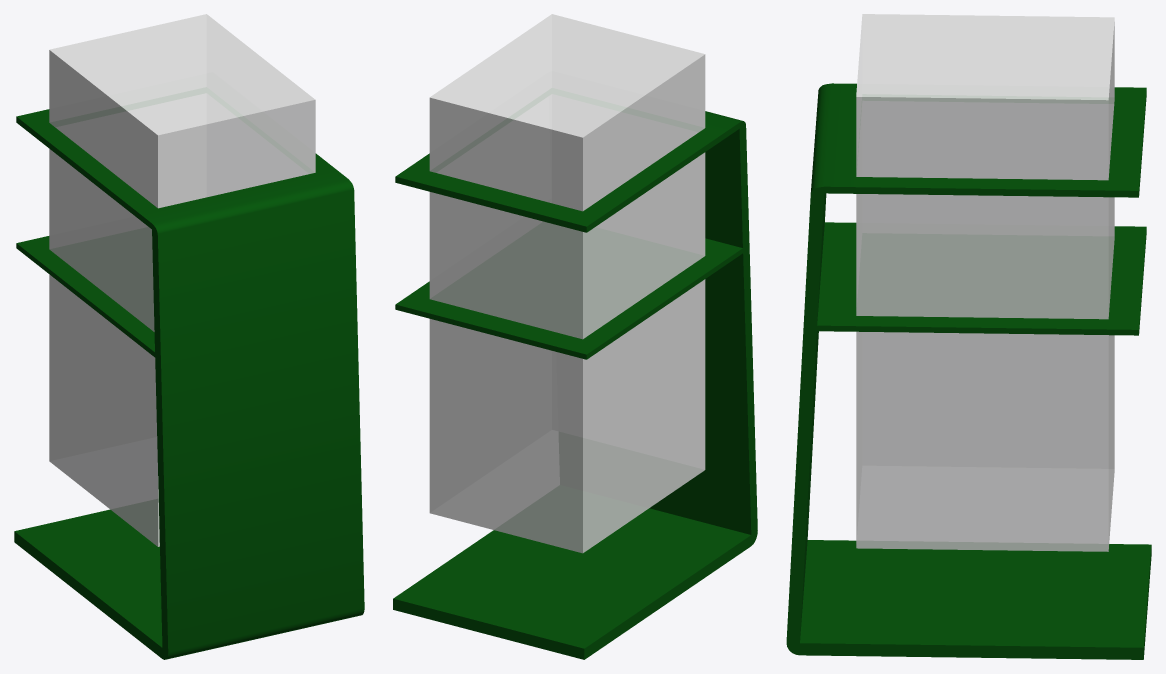
File: small_stand_lamp.FBX
3 renders of one model, left to right at view 1: azimuth 30°, elevation 25°; view 2: azimuth 150°, elevation 25°; view 3: azimuth 270°, elevation 25°, orthographic. The views are drawn at different scales.
Visible parts, largest first — view 1: lamp stand, lamp part; view 2: lamp part, lamp stand; view 3: lamp part, lamp stand.
Boxes of the visible parts, x1,y1,x2,y2 form: lamp stand: (14, 109, 364, 659); lamp part: (49, 14, 315, 546); lamp part: (429, 14, 705, 553); lamp stand: (393, 111, 757, 659); lamp part: (856, 14, 1114, 551); lamp stand: (786, 83, 1151, 659).
Size of the model in its own units: 8.5 by 20.14 by 12.13.
